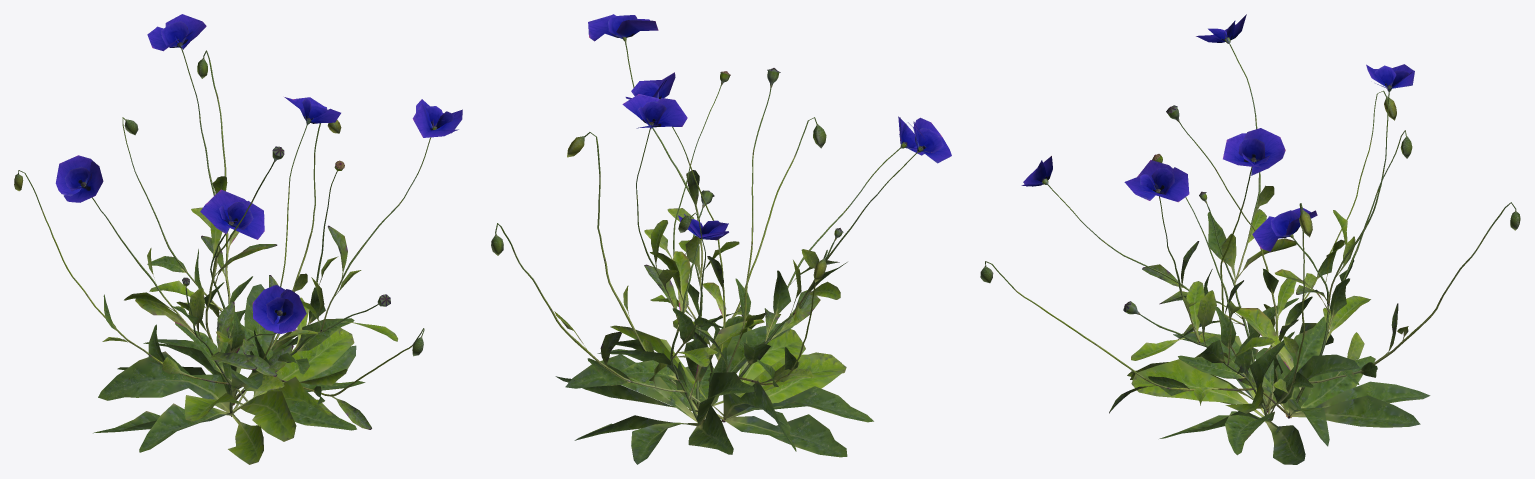
File: Poppy_bush_long_deepblue.glb
3 renders of one model, left to right at view 1: azimuth 30°, elevation 25°; view 2: azimuth 150°, elevation 25°; view 3: azimuth 270°, elevation 25°, orthographic. The views are drawn at different scales.
Parts seen in each view (by area): view 1: large bush; view 2: large bush; view 3: large bush.
Part boxes in pixels (x1=…): large bush: x1=14, y1=14, x2=462, y2=464; large bush: x1=491, y1=14, x2=951, y2=464; large bush: x1=980, y1=14, x2=1520, y2=464.
Bounding box in the file's own units: 6 × 5.32 × 7.44.
Materials: 1 (1 with a texture image).
